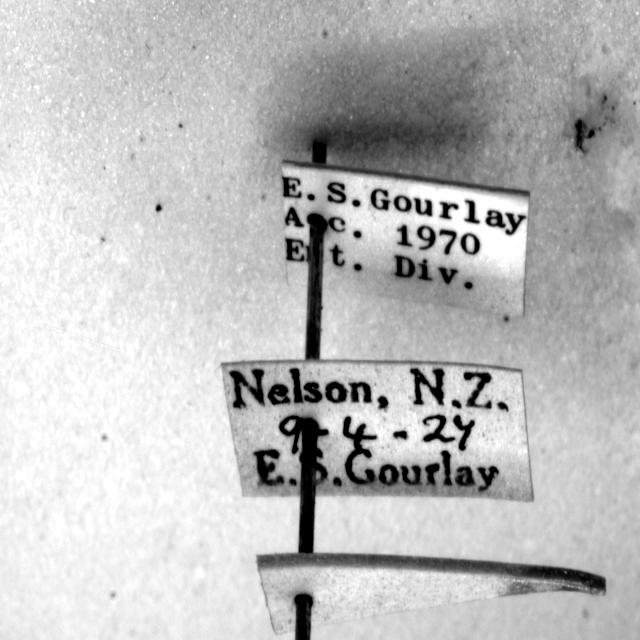hand_label: (221, 360, 532, 501)
typed_label: (281, 161, 529, 317)
